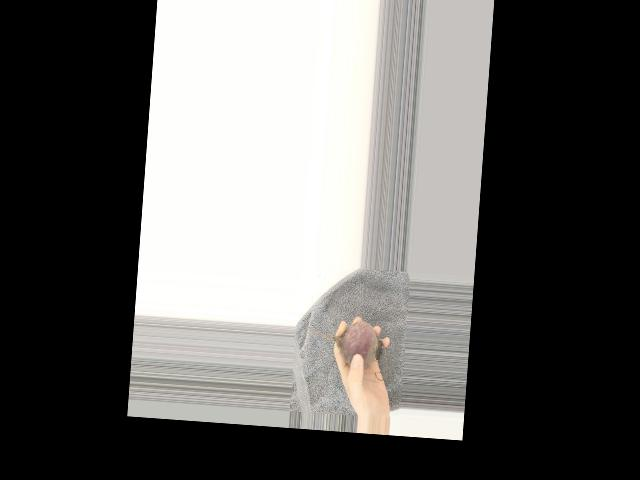beet: (303, 316, 384, 370)
